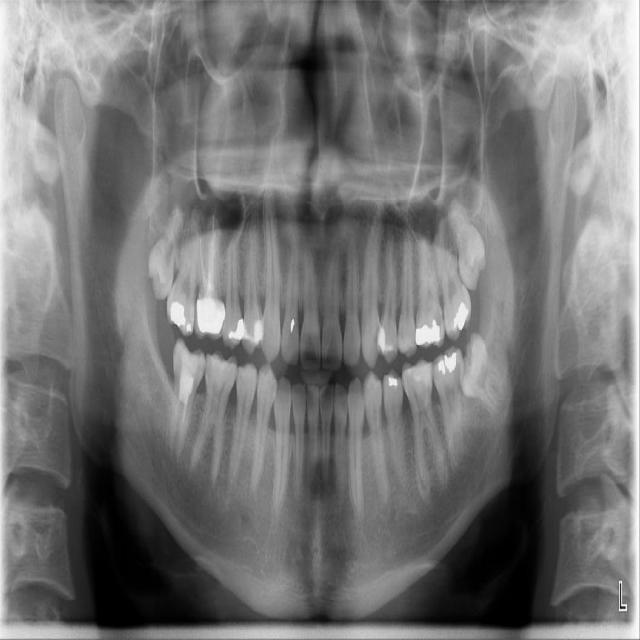Filling: (173, 338, 206, 391), (193, 296, 226, 342), (166, 299, 192, 333), (413, 322, 443, 346), (449, 299, 469, 334), (437, 348, 458, 373), (376, 325, 393, 354), (230, 316, 248, 343), (248, 317, 264, 341), (383, 371, 402, 389), (288, 314, 298, 340)
Periapical lesion: (311, 459, 336, 500)
Root Canal Treatment: (169, 400, 181, 450), (178, 397, 189, 448), (210, 216, 214, 290), (200, 239, 205, 282)
impacted tooth: (459, 334, 516, 417), (449, 197, 487, 287), (148, 204, 181, 301)
